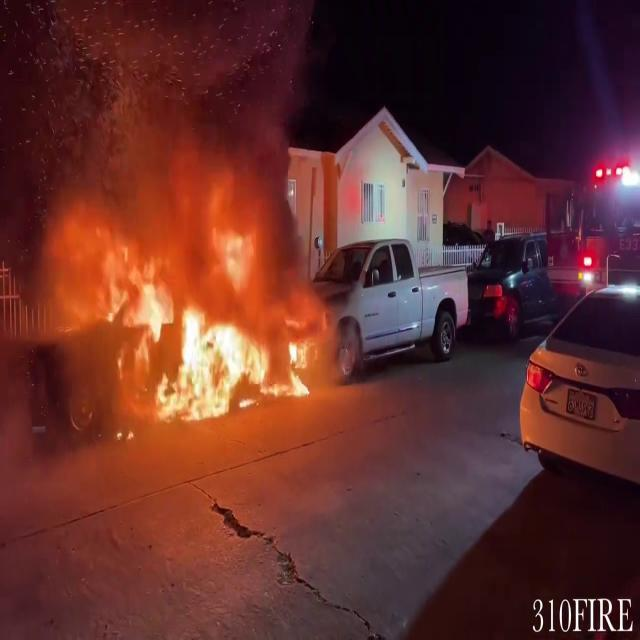Fire: (105, 218, 322, 418)
Smoke: (25, 84, 321, 284)
